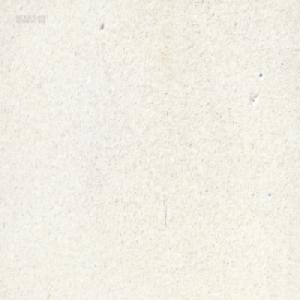Wrench: (165, 0, 172, 5)
